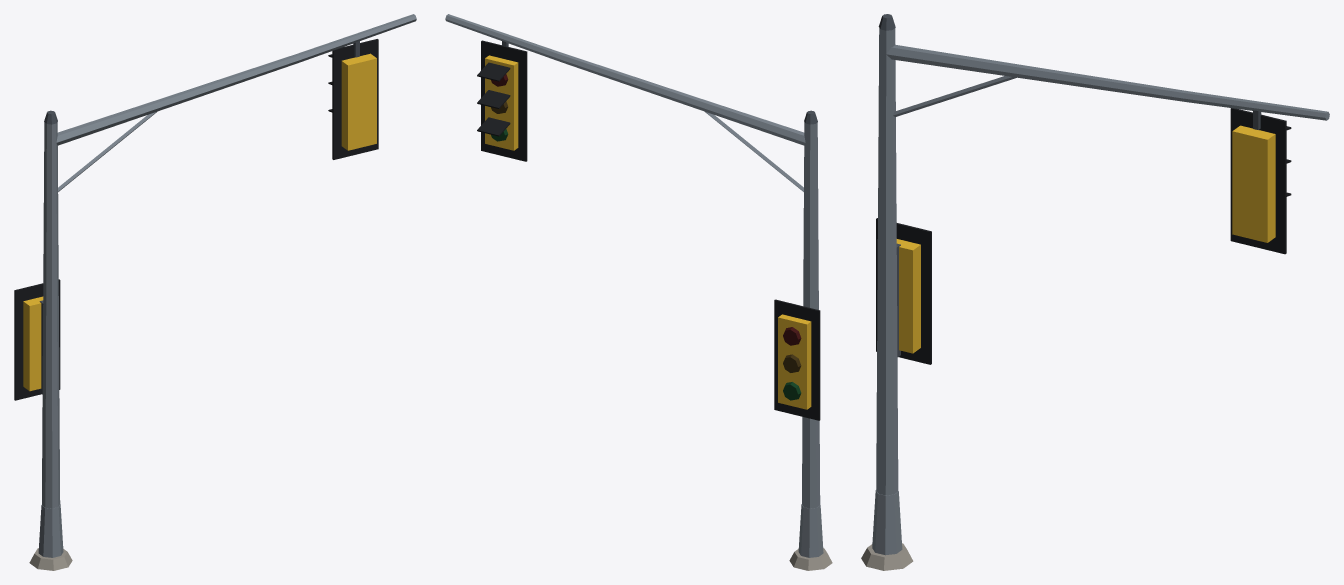
File: traffic_light.glb
3 renders of one model, left to right at view 1: azimuth 30°, elevation 25°; view 2: azimuth 150°, elevation 25°; view 3: azimuth 330°, elevation 25°, orthographic. The views are drawn at different scales.
Visible parts, largest first — view 1: Body; view 2: Body; view 3: Body.
Part boxes in pixels (x1,y1,x2,y2): Body: (14,14,416,570); Body: (445,14,832,570); Body: (861,14,1329,570).
Size of the model in its own units: 5.31 by 6.02 by 0.7302.
